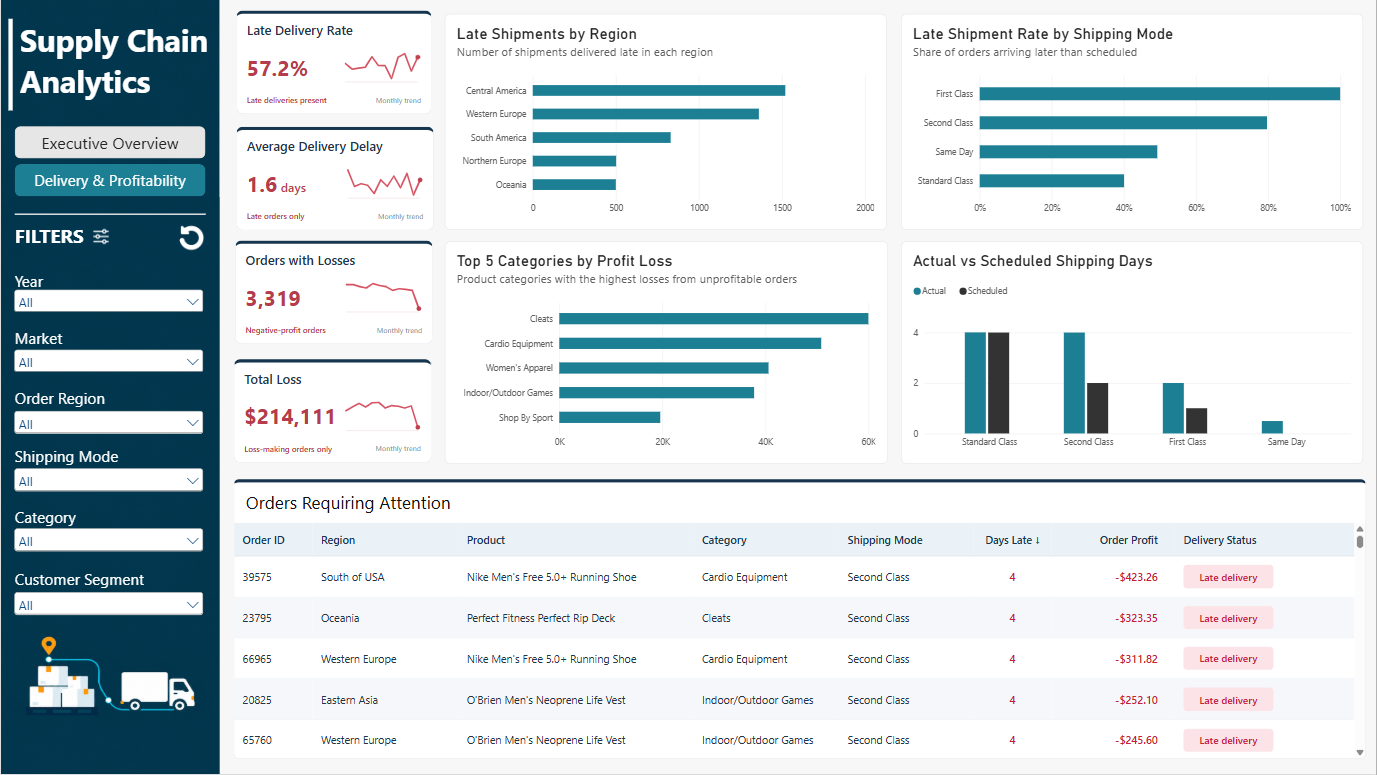

This screenshot's page, from the dashboard's own definition file:
{"tool":"powerbi","page":{"name":"Delivery & Profitability","canvas":[1920,1080],"ordinal":2},"visuals":[{"type":"image","box":[0,0,305,1080],"z":0},{"type":"htmlContent443BE3AD55E043BF878BED274D3A6855","fields":{"content":["_Measures.Delivery Delay Risk HTML"]},"box":[311.7,161.7,308.3,185],"z":1000},{"type":"htmlContent443BE3AD55E043BF878BED274D3A6855","fields":{"content":["_Measures.Late Rate Risk HTML"]},"box":[311.7,0,305,176.7],"z":2000},{"type":"htmlContent443BE3AD55E043BF878BED274D3A6855","fields":{"content":["_Measures.Orders With Losses Risk HTML"]},"box":[310,321.7,308.3,196.7],"z":3000},{"type":"htmlContent443BE3AD55E043BF878BED274D3A6855","fields":{"content":["_Measures.Total Loss Risk HTML"]},"box":[308.3,486.7,308.3,185],"z":4000},{"type":"clusteredBarChart","title":"Late Shipment Rate by Shipping Mode","fields":{"Category":["FACT_Order.Shipping Mode"],"Y":["_Measures.Late Shipment %"]},"box":[1256.7,20,645,301.7],"z":5000},{"type":"barChart","title":"Top 5 Categories by Profit Loss","fields":{"Category":["DIM_Categoria.Category Name"],"Y":["_Measures.Loss Amount"]},"box":[620,336.7,618.3,310],"z":6000},{"type":"clusteredBarChart","title":"Late Shipments by Region","fields":{"Category":["FACT_Order.Order Region"],"Y":["_Measures.Late Shipments"]},"box":[620,20,616.7,301.7],"z":7000},{"type":"image","box":[0,275,305,805],"z":8000},{"type":"textbox","box":[26.7,26.7,266.7,128.3],"z":9000},{"type":"clusteredColumnChart","title":"Actual vs Scheduled Shipping Days","fields":{"Category":["FACT_Order.Shipping Mode"],"Y":["_Measures.Avg Actual Shipping Days","_Measures.Avg Scheduled Shipping Days"]},"box":[1256.7,336.7,645,310],"z":10000},{"type":"pageNavigator","box":[20,176.7,266.7,98.3],"z":11000},{"type":"shape","box":[0,26.7,26.7,128.3],"z":12000},{"type":"shape","box":[20,275,266.7,46.7],"z":13000},{"type":"textbox","box":[20,376.7,76.7,35],"z":14000},{"type":"textbox","box":[20,456.7,76.7,35],"z":15000},{"type":"textbox","box":[20,540,140,35],"z":16000},{"type":"textbox","box":[20,621.7,163.3,31.7],"z":17000},{"type":"textbox","box":[20,706.7,118.3,36.7],"z":18000},{"type":"textbox","box":[20,793.3,188.3,31.7],"z":19000},{"type":"slicer","fields":{"Values":["CALENDAR_TABLE.YEAR"]},"box":[13.3,400,273.3,35],"z":20000},{"type":"slicer","fields":{"Values":["FACT_Order.Market"]},"box":[13.3,483.3,273.3,35],"z":21000},{"type":"slicer","fields":{"Values":["FACT_Order.Order Region"]},"box":[13.3,568.3,273.3,46.7],"z":22000},{"type":"slicer","fields":{"Values":["FACT_Order.Shipping Mode"]},"box":[13.3,648.3,273.3,53.3],"z":23000},{"type":"slicer","fields":{"Values":["DIM_Categoria.Category Name"]},"box":[13.3,733.3,273.3,36.7],"z":24000},{"type":"slicer","fields":{"Values":["DIM_Customer.Customer Segment"]},"box":[13.3,821.7,273.3,43.3],"z":25000},{"type":"textbox","box":[20,310,108.3,43.3],"z":26000},{"type":"image","box":[125,318.3,28.3,21.7],"z":27000},{"type":"htmlContent443BE3AD55E043BF878BED274D3A6855","fields":{"content":["_Measures.Orders Requiring Attention HTML"]},"box":[308.3,653.3,1611.7,426.7],"z":28000},{"type":"image","box":[246.7,308.3,40,46.7],"z":29000}]}

Visuals, with their boxes on the page's 1920x1080 design canvas (x1, y1, x2, y2). These are canvas units, not pixel positions in the 1377x775 screenshot, which may show the page scaled, cropped or inside an application window:
image: x1=0 y1=0 x2=305 y2=1080
htmlContent443BE3AD55E043BF878BED274D3A6855 - _Measures.Delivery Delay Risk HTML: x1=312 y1=162 x2=620 y2=347
htmlContent443BE3AD55E043BF878BED274D3A6855 - _Measures.Late Rate Risk HTML: x1=312 y1=0 x2=617 y2=177
htmlContent443BE3AD55E043BF878BED274D3A6855 - _Measures.Orders With Losses Risk HTML: x1=310 y1=322 x2=618 y2=518
htmlContent443BE3AD55E043BF878BED274D3A6855 - _Measures.Total Loss Risk HTML: x1=308 y1=487 x2=617 y2=672
"Late Shipment Rate by Shipping Mode" clusteredBarChart: x1=1257 y1=20 x2=1902 y2=322
"Top 5 Categories by Profit Loss" barChart: x1=620 y1=337 x2=1238 y2=647
"Late Shipments by Region" clusteredBarChart: x1=620 y1=20 x2=1237 y2=322
image: x1=0 y1=275 x2=305 y2=1080
textbox: x1=27 y1=27 x2=293 y2=155
"Actual vs Scheduled Shipping Days" clusteredColumnChart: x1=1257 y1=337 x2=1902 y2=647
pageNavigator: x1=20 y1=177 x2=287 y2=275
shape: x1=0 y1=27 x2=27 y2=155
shape: x1=20 y1=275 x2=287 y2=322
textbox: x1=20 y1=377 x2=97 y2=412
textbox: x1=20 y1=457 x2=97 y2=492
textbox: x1=20 y1=540 x2=160 y2=575
textbox: x1=20 y1=622 x2=183 y2=653
textbox: x1=20 y1=707 x2=138 y2=743
textbox: x1=20 y1=793 x2=208 y2=825
slicer - CALENDAR_TABLE.YEAR: x1=13 y1=400 x2=287 y2=435
slicer - FACT_Order.Market: x1=13 y1=483 x2=287 y2=518
slicer - FACT_Order.Order Region: x1=13 y1=568 x2=287 y2=615
slicer - FACT_Order.Shipping Mode: x1=13 y1=648 x2=287 y2=702
slicer - DIM_Categoria.Category Name: x1=13 y1=733 x2=287 y2=770
slicer - DIM_Customer.Customer Segment: x1=13 y1=822 x2=287 y2=865
textbox: x1=20 y1=310 x2=128 y2=353
image: x1=125 y1=318 x2=153 y2=340
htmlContent443BE3AD55E043BF878BED274D3A6855 - _Measures.Orders Requiring Attention HTML: x1=308 y1=653 x2=1920 y2=1080
image: x1=247 y1=308 x2=287 y2=355
